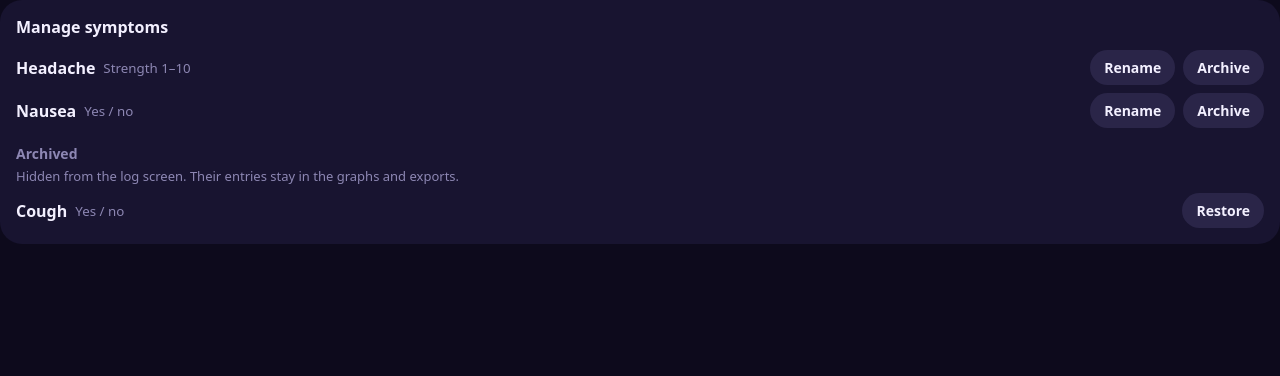
Test: ManageSymptomsCard › cancelling a rename changes nothing
This screenshot has width=1280, height=376.
Expected: the text "Headache" is shown, 16,56 -> 95,78
Click the button with aria-label "Rename Headache" at (1133, 68), box 1090,50 -> 1175,85
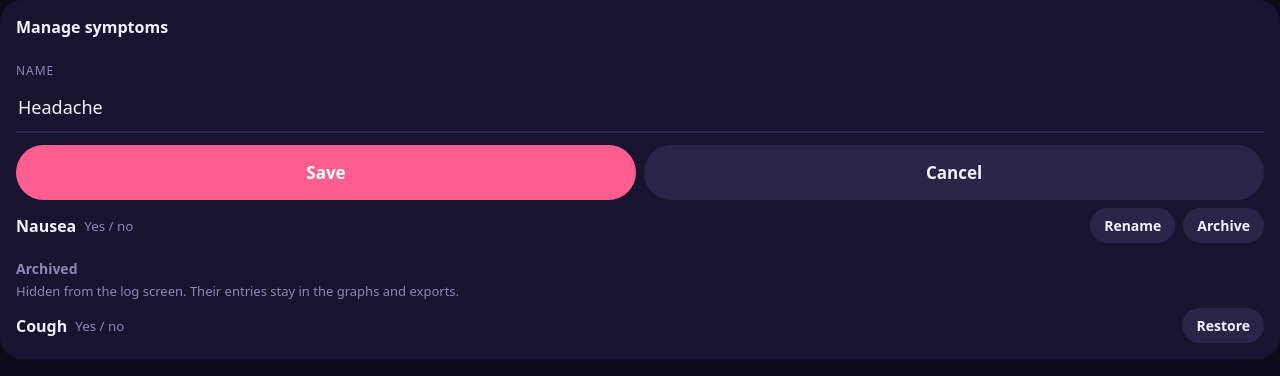
Type "xyz" into the field labelled "Name" at (640, 108), box 16,83 -> 1264,133
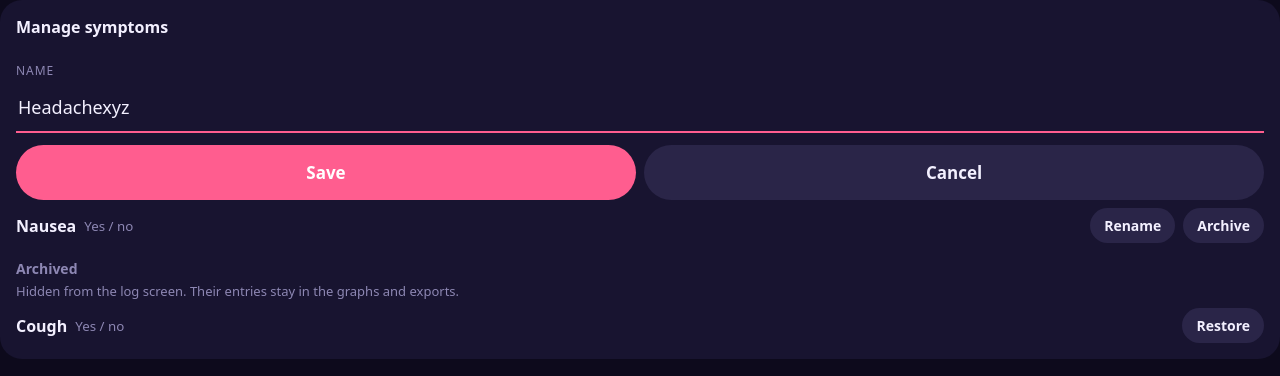
Click the button "Cancel" at (954, 172), box 644,145 -> 1264,200
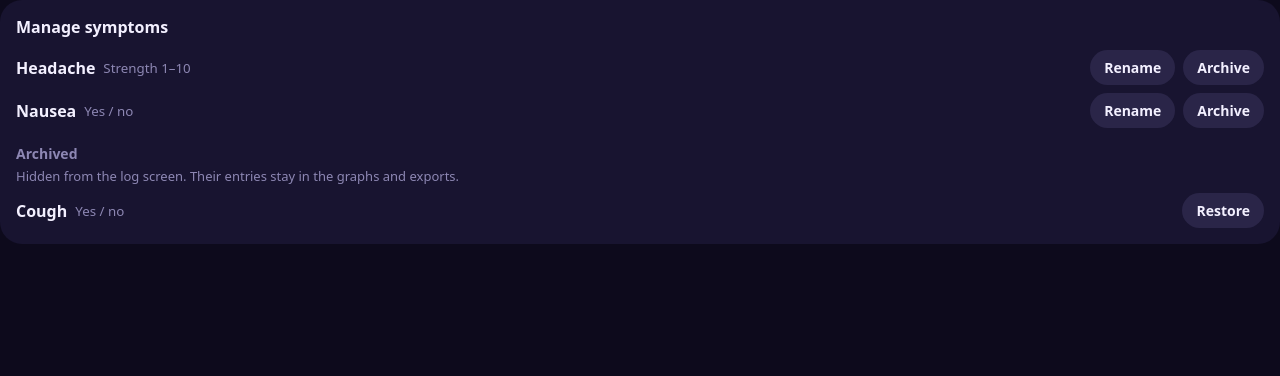
Now the text "Headache" is shown, box 16,56 -> 95,78
